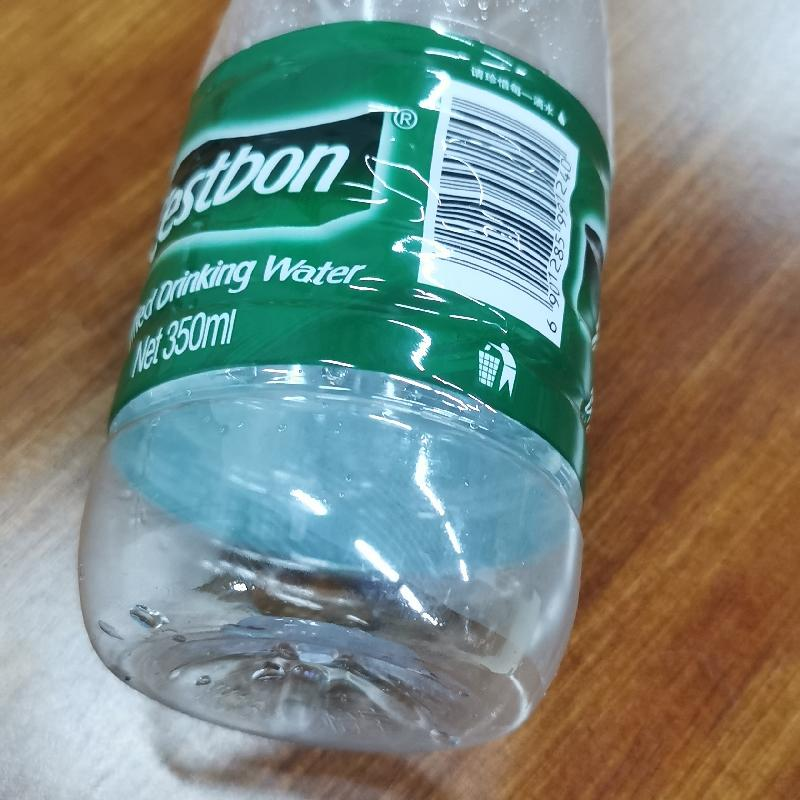bottles: (73, 5, 616, 755)
